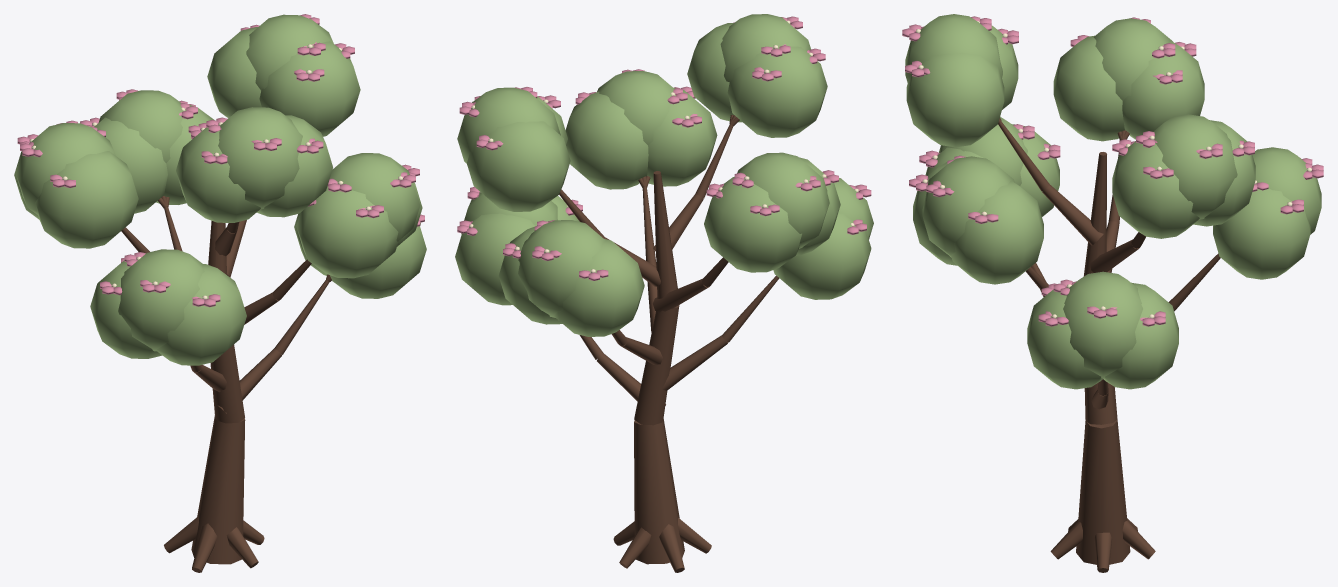
The model's file is almanac-gardens-blossom-orchard-tree-40e484ef__22032.glb.
The picture shows the model from 3 angles, left to right: view 1: azimuth 30°, elevation 25°; view 2: azimuth 150°, elevation 25°; view 3: azimuth 270°, elevation 25°; orthographic projection. The views are drawn at different scales.
Parts seen in each view (by area): view 1: blossom-orchard-tree-sage, blossom-orchard-tree-bark, blossom-orchard-tree-pink; view 2: blossom-orchard-tree-sage, blossom-orchard-tree-bark, blossom-orchard-tree-pink; view 3: blossom-orchard-tree-sage, blossom-orchard-tree-bark, blossom-orchard-tree-pink.
Part boxes in pixels (<box>): blossom-orchard-tree-sage: <box>14,14,426,365</box>; blossom-orchard-tree-bark: <box>121,196,331,572</box>; blossom-orchard-tree-pink: <box>17,14,424,307</box>; blossom-orchard-tree-sage: <box>455,14,873,336</box>; blossom-orchard-tree-bark: <box>559,115,779,572</box>; blossom-orchard-tree-pink: <box>457,16,871,280</box>; blossom-orchard-tree-sage: <box>905,14,1321,389</box>; blossom-orchard-tree-bark: <box>998,118,1220,572</box>; blossom-orchard-tree-pink: <box>902,16,1323,326</box>.
Size of the model in its own units: 2.81 by 3.57 by 2.62.
